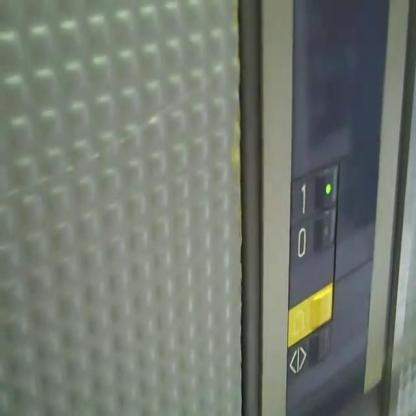0: (286, 204, 338, 268)
1: (288, 158, 341, 222)
alarm: (285, 280, 335, 348)
open: (285, 315, 334, 376)
